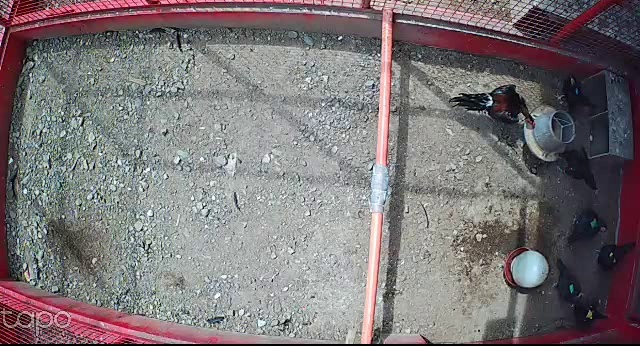Chicken: (555, 146, 603, 194), (550, 73, 603, 115), (561, 209, 610, 246), (550, 256, 586, 304), (590, 239, 638, 274), (570, 294, 611, 333)
Drinker: (501, 247, 551, 291)
Feeder: (523, 103, 578, 160)
Rooster: (446, 83, 541, 124)
Saddle_Color_Blue: (575, 87, 580, 94)
Saddle_Color_Yellow: (585, 310, 594, 318)
